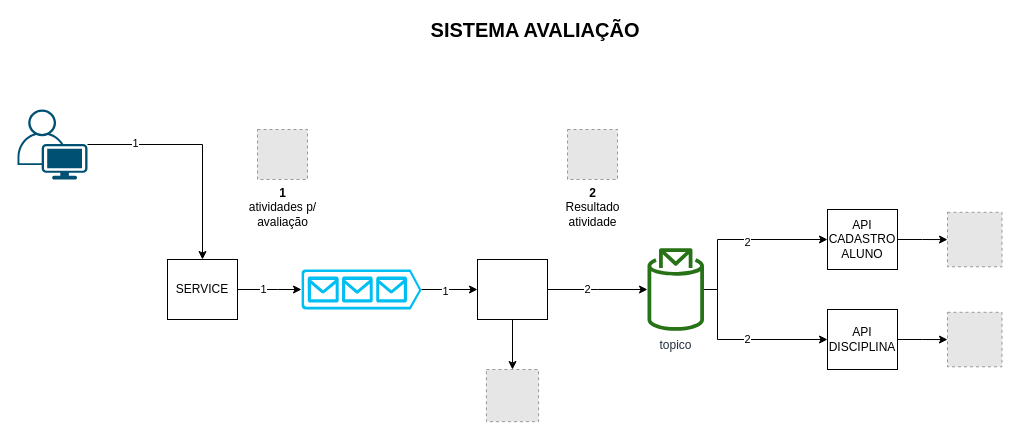
The diagram is 1019 pixels wide and 439 high, and some of its shapes have lost their labels. Grey dashed boxes stand in for pictures. The shapes that lost their labels are listed below. From the top down, each one's centre as x and y in pixels, then its label:
point (52, 144): ALUNOS
point (361, 289): fila
point (512, 289): API VALIDACAO
